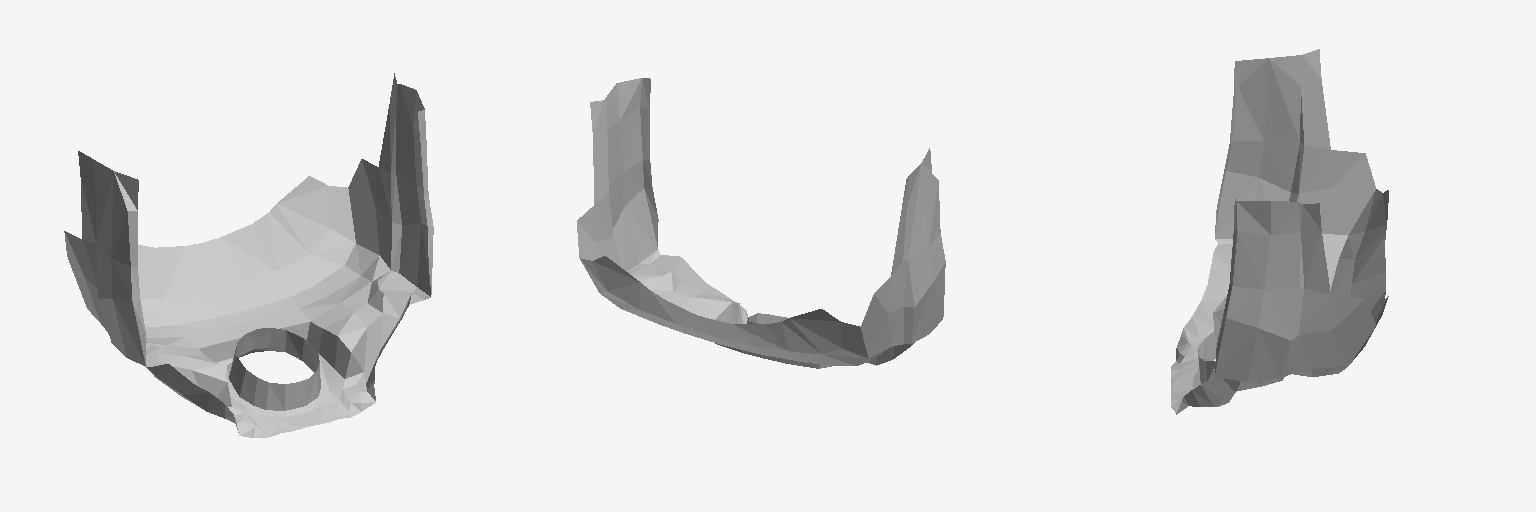
File: X02LowerBodyBack.obj
3 views of the same model, side by side, from view 1: azimuth 30°, elevation 25°; view 2: azimuth 150°, elevation 25°; view 3: azimuth 270°, elevation 25° (orthographic).
Parts seen in each view (by area): view 1: CPA; view 2: CPA; view 3: CPA.
Boxes of the visible parts, box(x1,y1,x2,y2) form: CPA: box(64, 73, 433, 437); CPA: box(577, 78, 945, 368); CPA: box(1171, 49, 1388, 414).
Bounding box in the file's own units: 31.75 × 25.19 × 19.